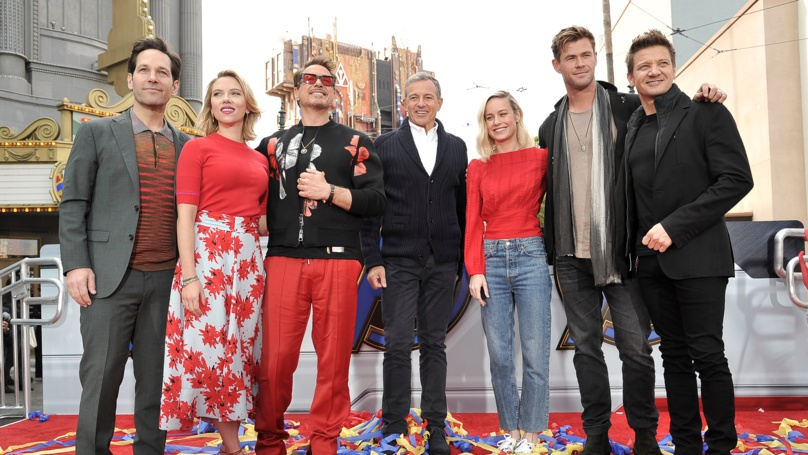bad: (132, 60, 175, 103), (477, 102, 513, 138), (561, 46, 597, 82), (401, 86, 437, 122), (209, 82, 245, 118), (637, 54, 673, 90), (297, 66, 333, 102)
